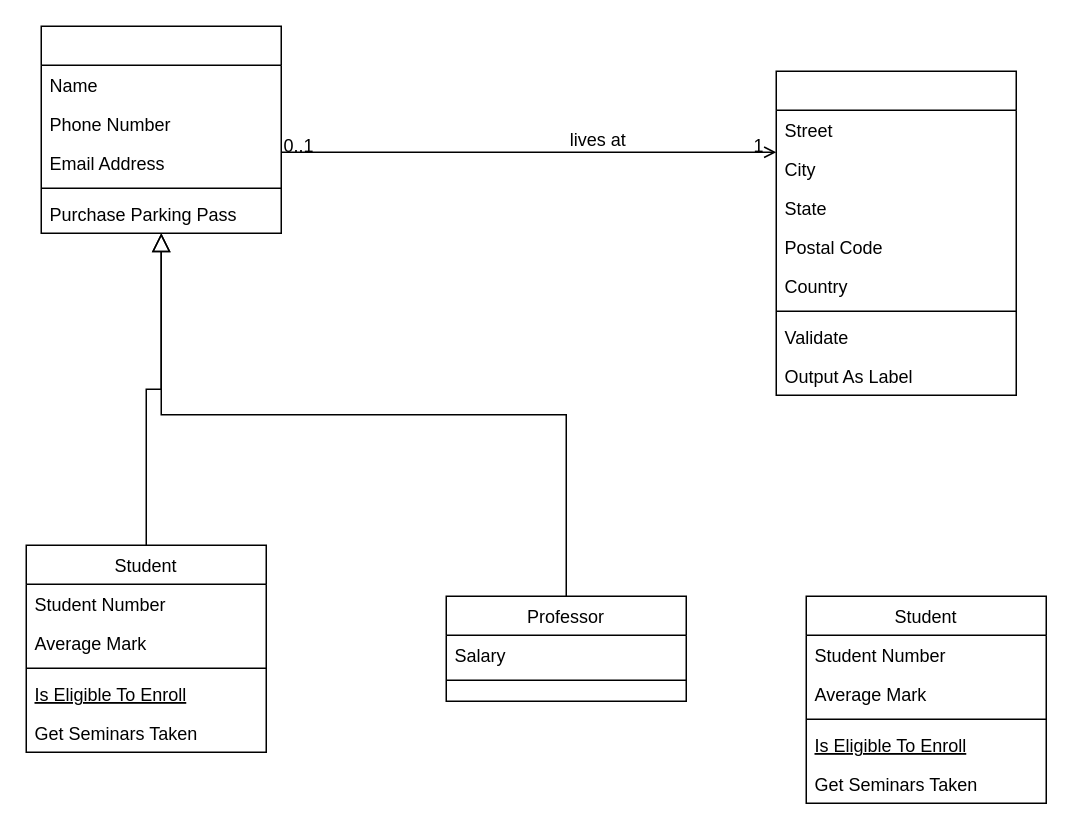
Some shapes in this 1073 by 834 pixel diagram are drawn without their labels. The box of each missing label's shape, as (x1, y1, x2, y2) in pixels:
Address: (775, 70, 1016, 395)
User: (40, 25, 281, 233)
